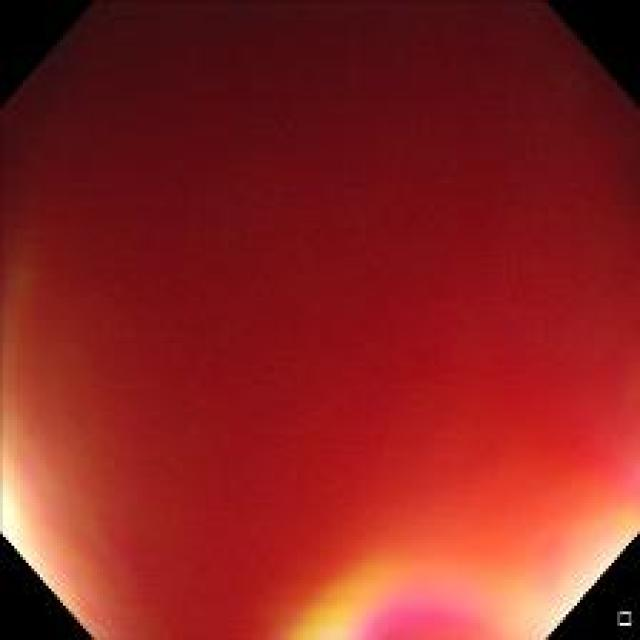color misalignment: (9, 12, 628, 629), (324, 560, 512, 631)
